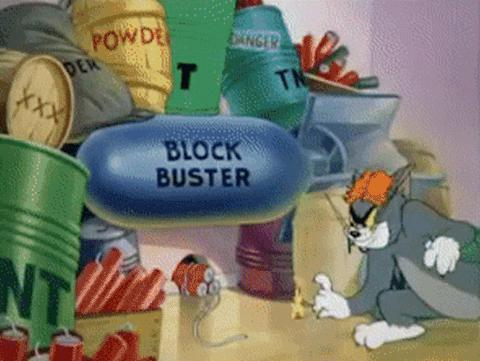tom: (309, 161, 480, 351)
